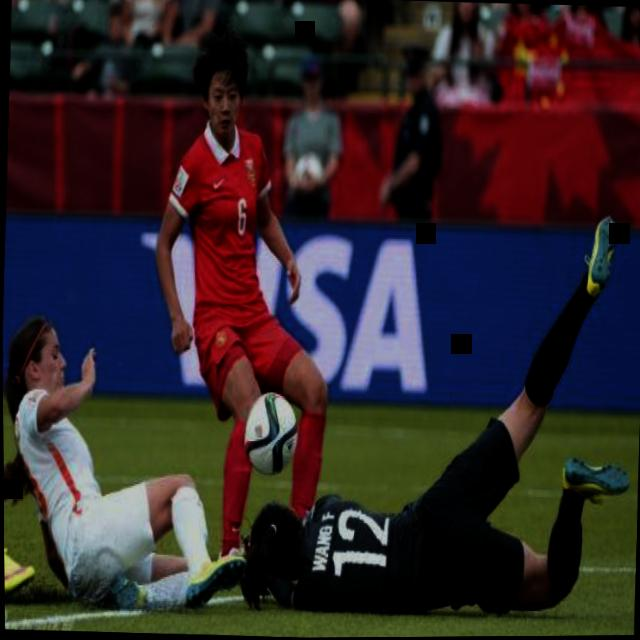Fall-Detected: (229, 185, 633, 620)
